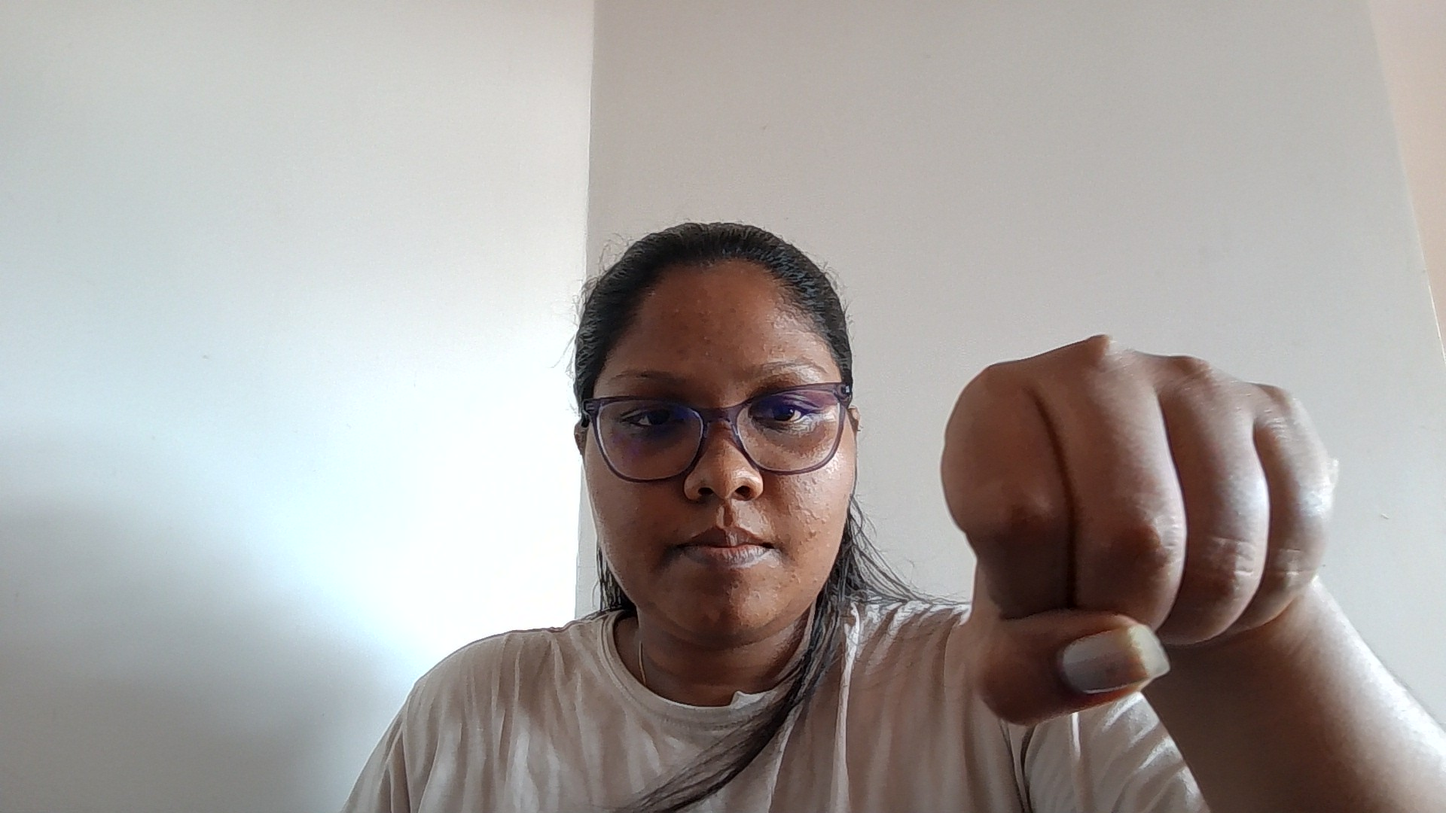Yes: (891, 292, 1407, 775)
